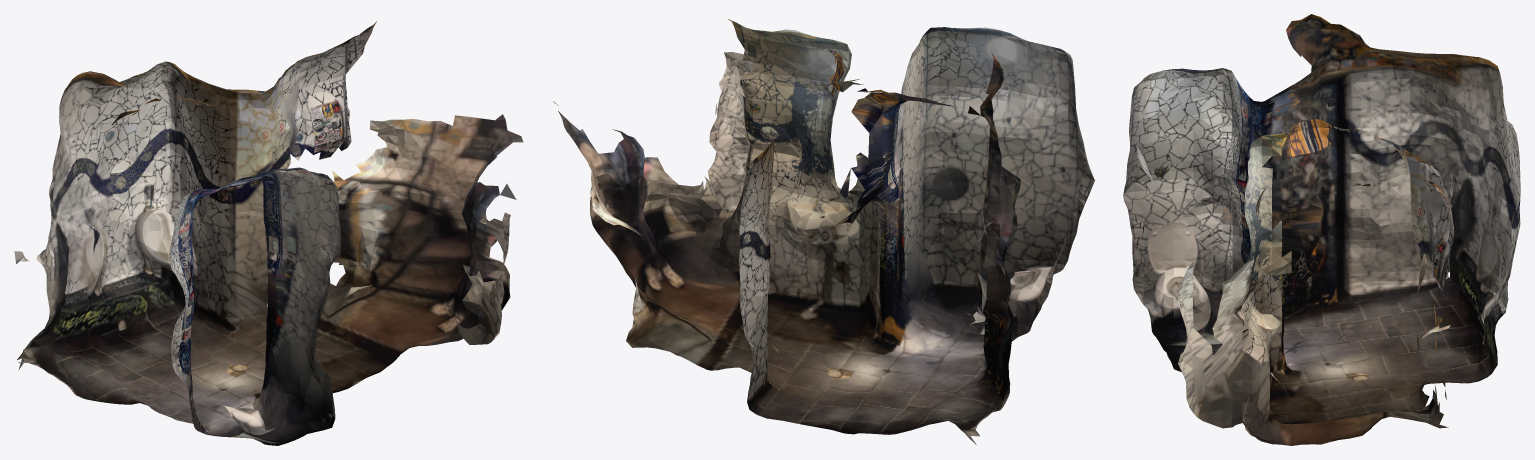
The model's file is Casa ponton.glb.
3 views of the same model, side by side, from view 1: azimuth 30°, elevation 25°; view 2: azimuth 150°, elevation 25°; view 3: azimuth 270°, elevation 25° (orthographic). The views are drawn at different scales.
Parts seen in each view (by area): view 1: mesh; view 2: mesh; view 3: mesh.
Boxes of the visible parts, left/top/right/bottom form: mesh: left=14, top=21, right=523, bottom=445; mesh: left=553, top=19, right=1094, bottom=444; mesh: left=1123, top=14, right=1520, bottom=445.
Size of the model in its own units: 4.24 by 2.74 by 3.23.
1 material, 1 textured.
